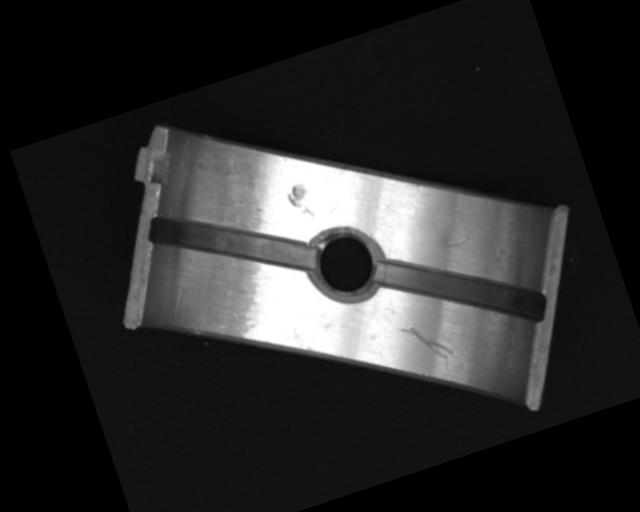bruise: (284, 179, 316, 223)
gap: (373, 216, 552, 365), (146, 174, 317, 315)
hole: (302, 218, 393, 308)
nick: (399, 311, 455, 370), (442, 237, 469, 250)
